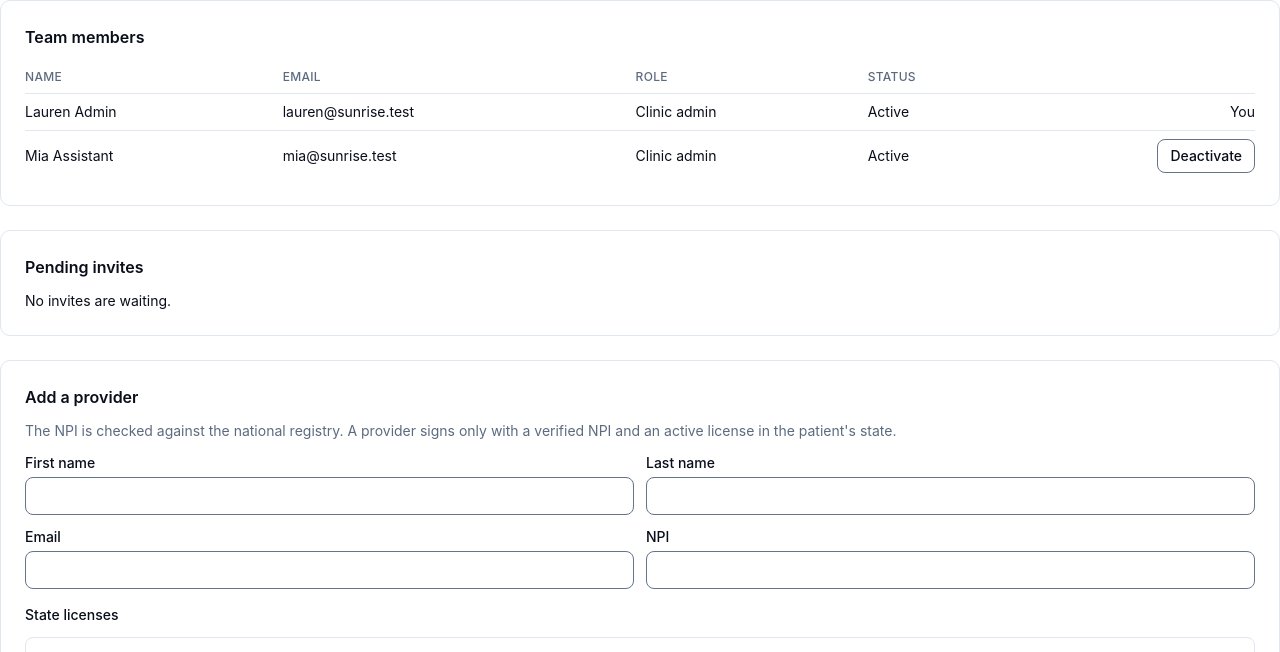
Test: the clinic admin › the last admin: the reason is announced
Click the button with aria-label "Deactivate Mia Assistant": (1206, 156) [1158, 139, 1255, 173]
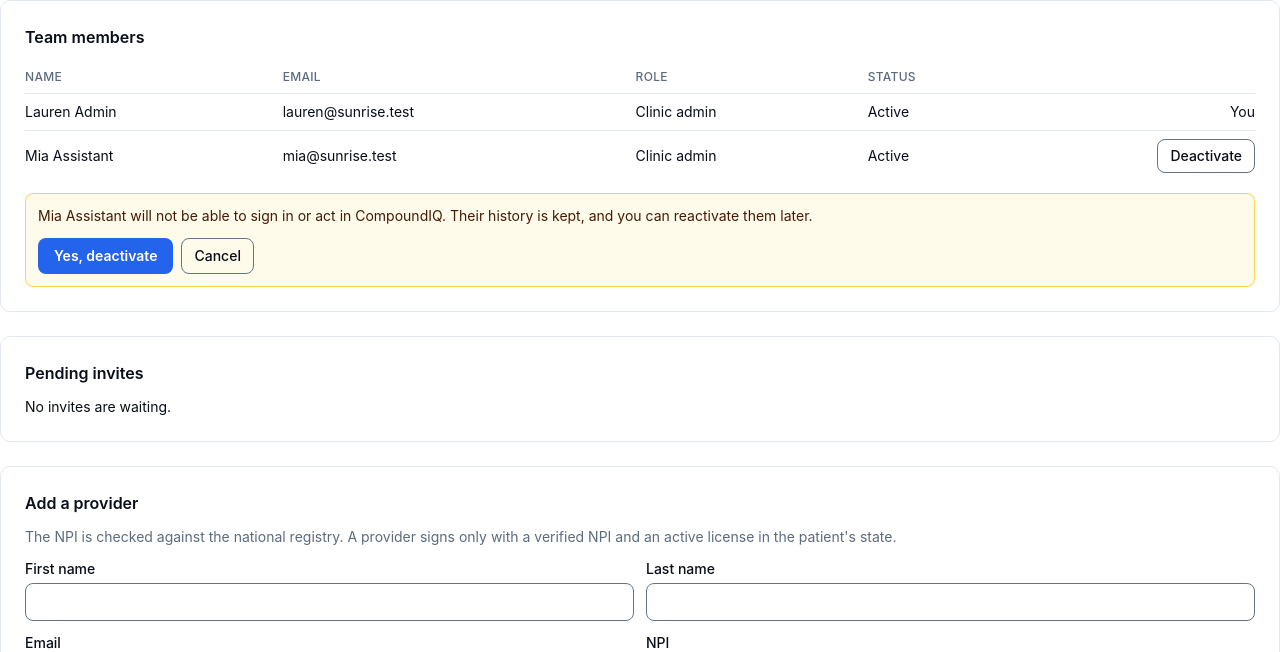
Click the button "Yes, deactivate": (106, 256) [38, 238, 174, 274]
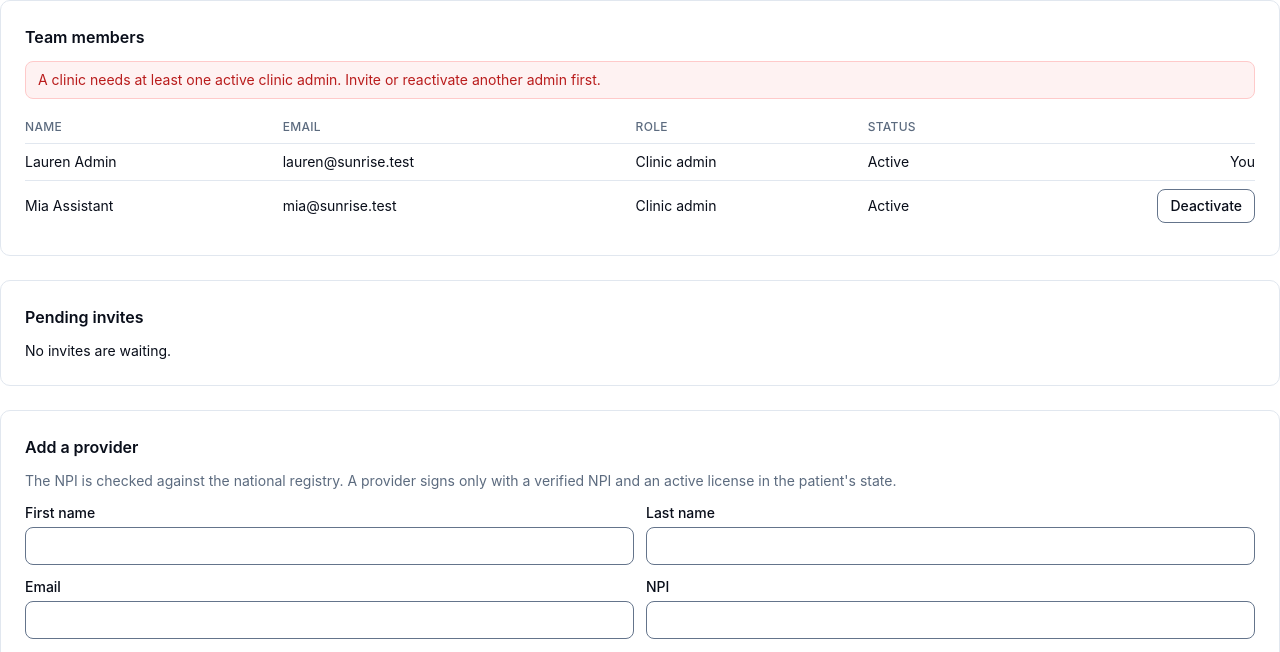
Result: the message shows "A clinic needs at least one active clinic admin." at [38, 71, 601, 88]
